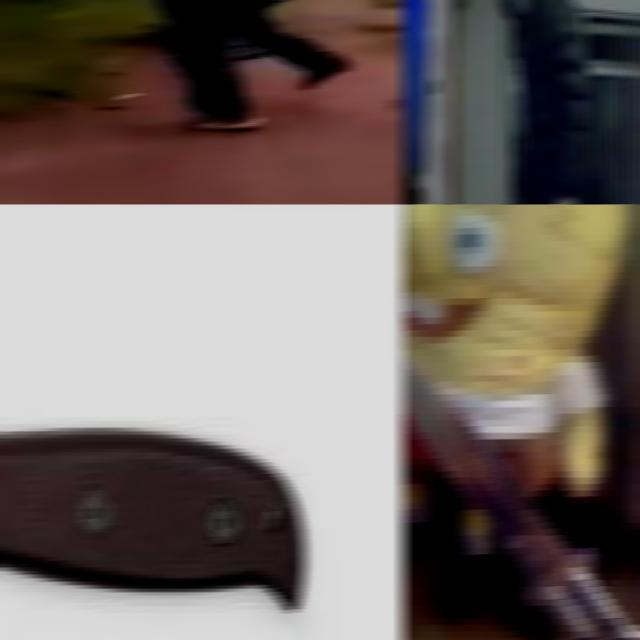Knife_Handle: (400, 330, 640, 640), (477, 196, 531, 204)
